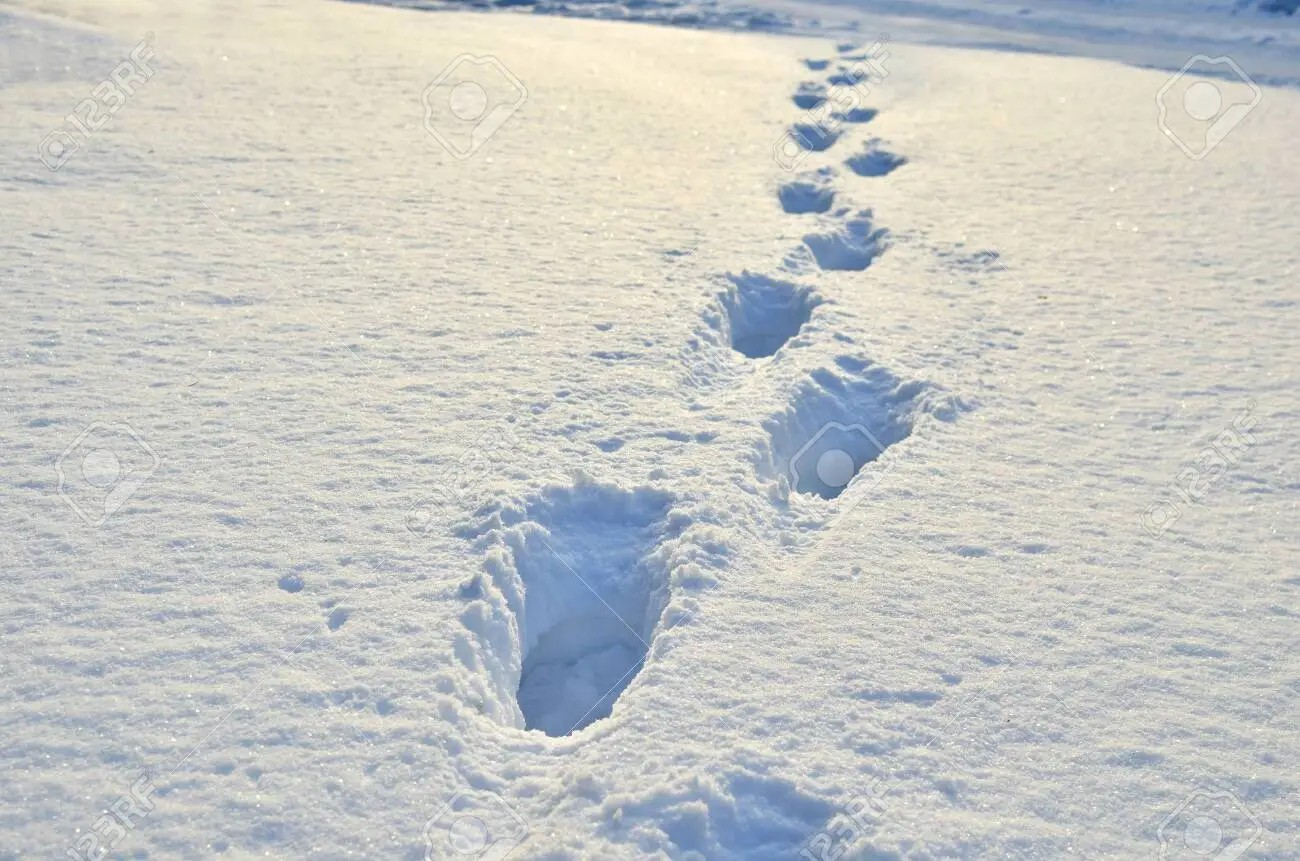human_foot_print: (465, 457, 685, 745), (774, 359, 936, 506), (692, 268, 823, 355), (781, 217, 920, 268), (775, 174, 839, 211), (850, 141, 907, 178), (785, 117, 838, 149)
